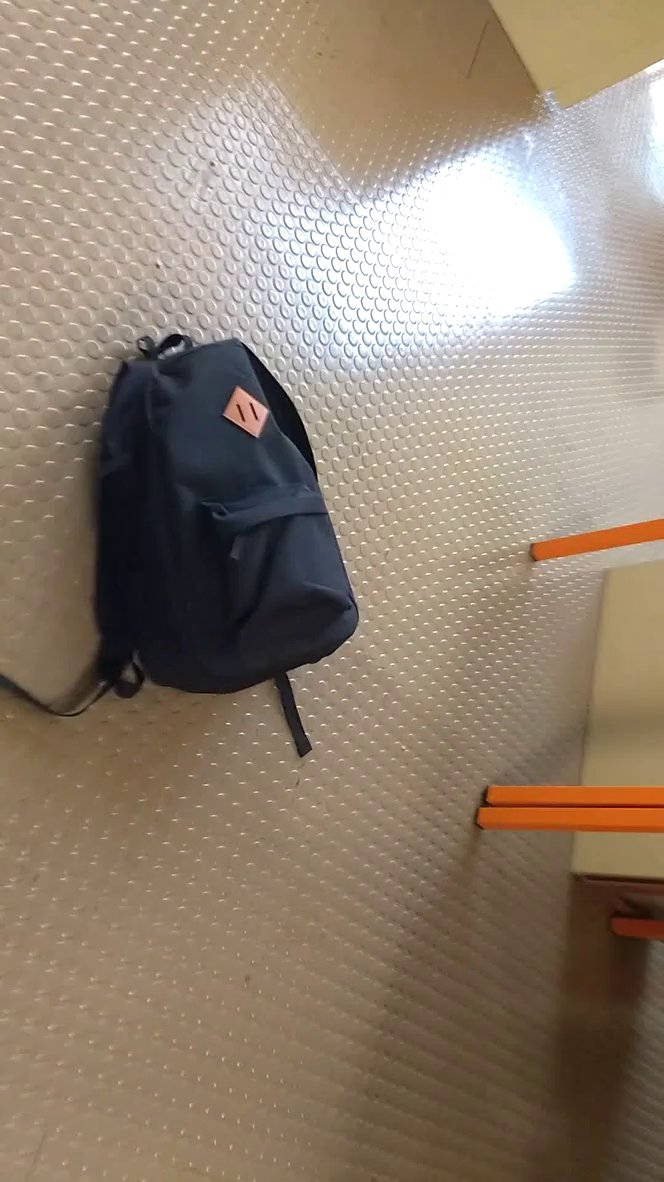bag: (1, 313, 378, 770)
